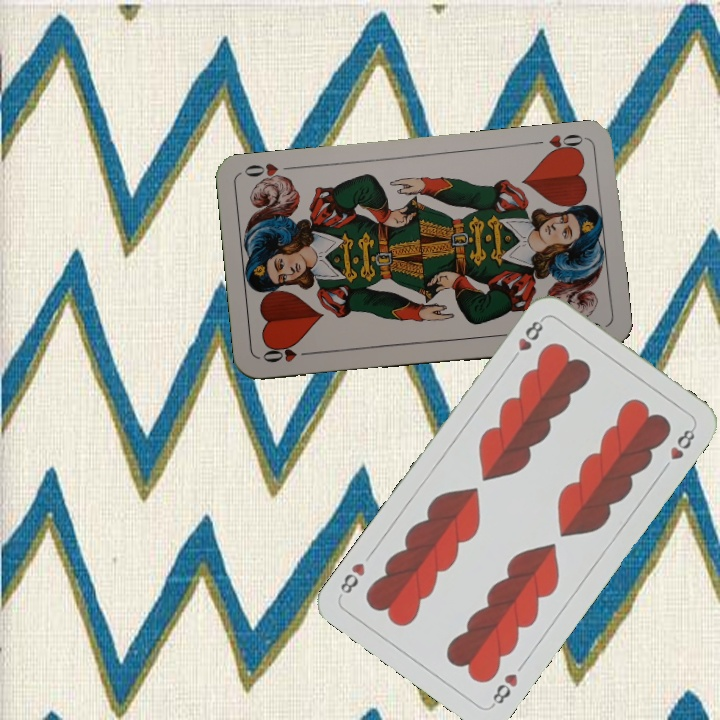H8: (506, 314, 547, 365), (487, 669, 521, 710)
HO: (540, 130, 588, 158), (259, 343, 317, 365)
